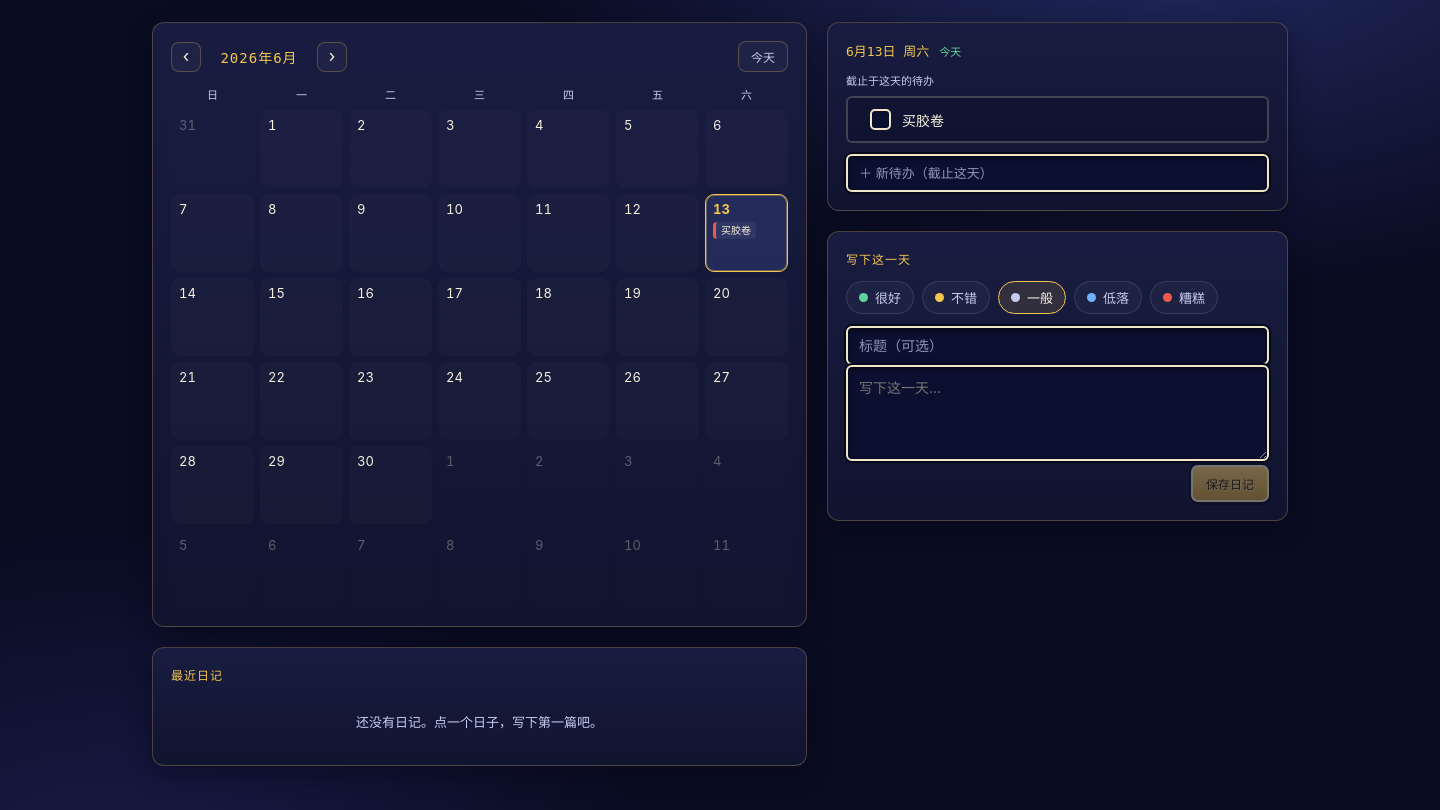
Test: productivity view › shows the selected day's todo and journals it with a companion reaction
Expected: the text "买胶卷" below "截止于这天的待办" is shown, [902,112,944,128]
Write a journal for today.
Click the radio button labelled "很好" at (880, 298), box [846,281,914,314]
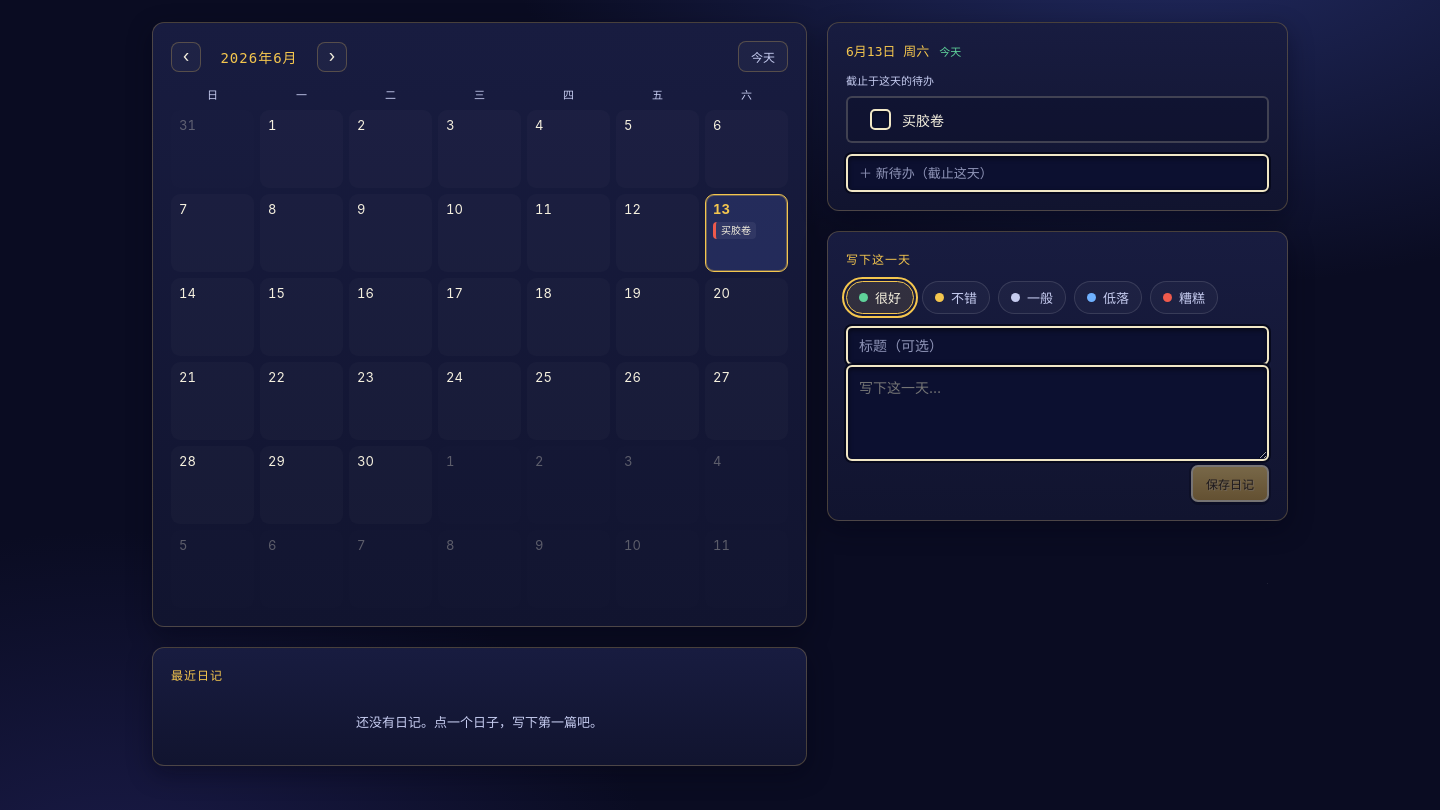
Type "今天拍到了好照片。" into the text box with placeholder "写下这一天…" at (1058, 413), box [846,365,1269,461]
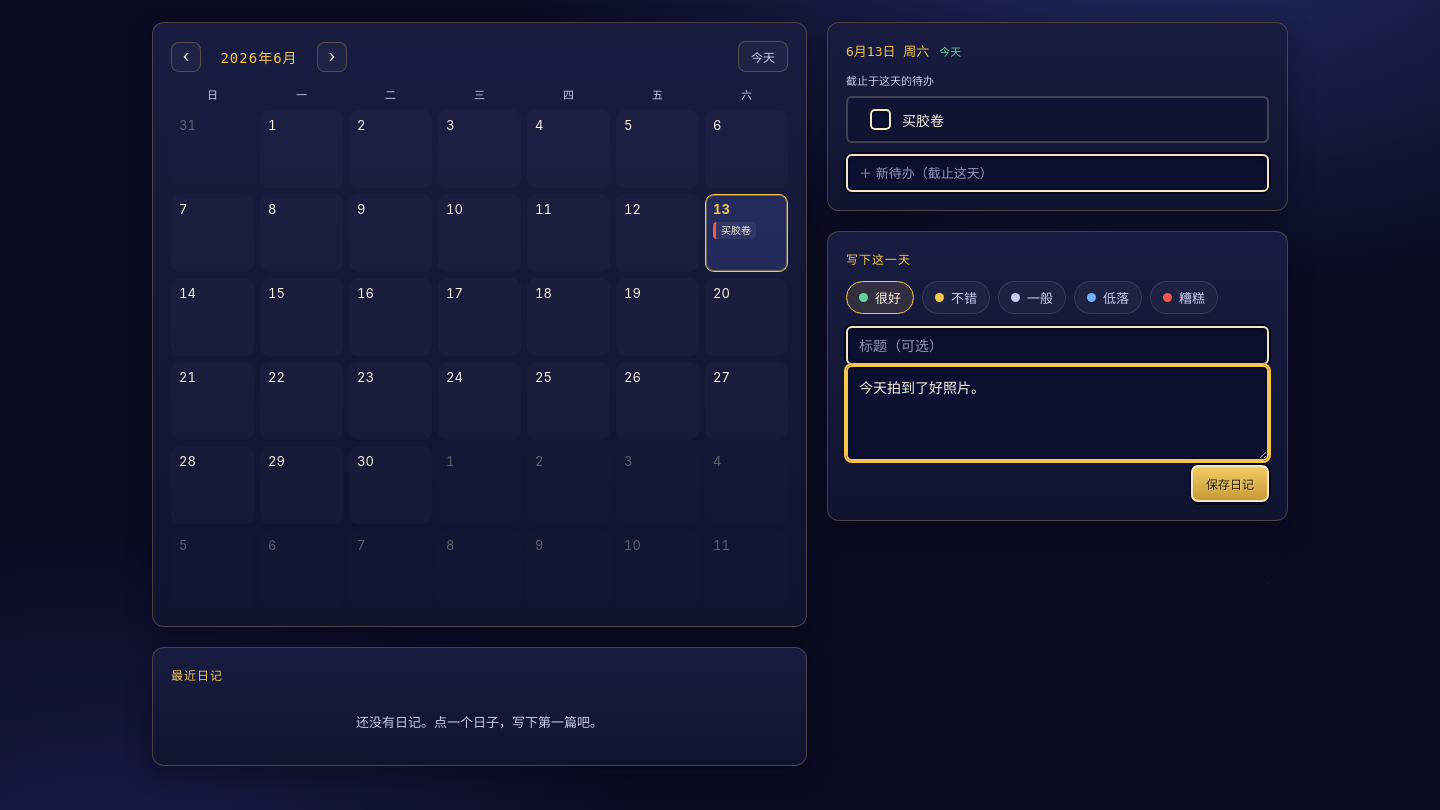
Click the button "保存日记" at (1230, 484), box [1191,465,1269,502]
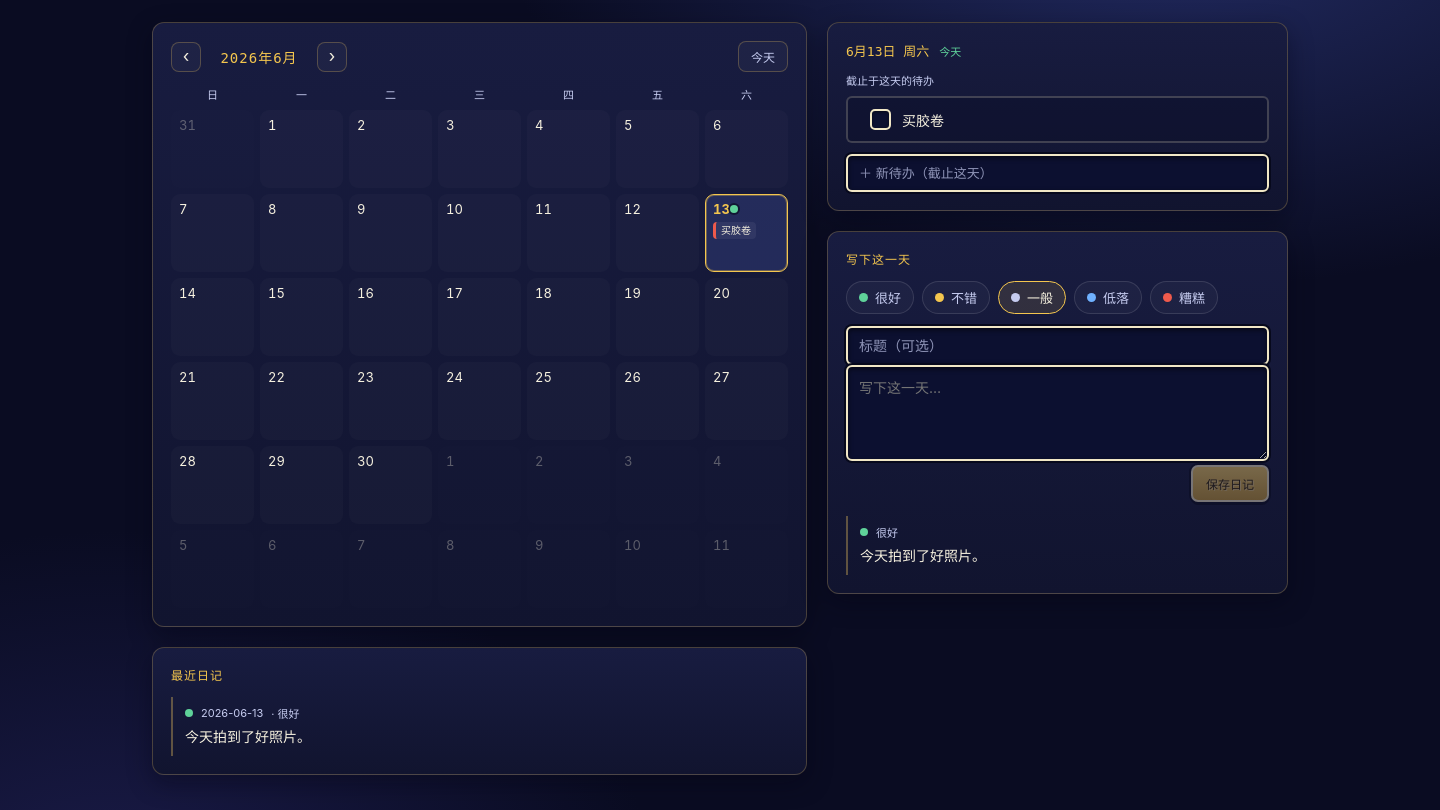
Result: the text "今天拍到了好照片。" below "最近日记" is shown at [185,728,311,745]
